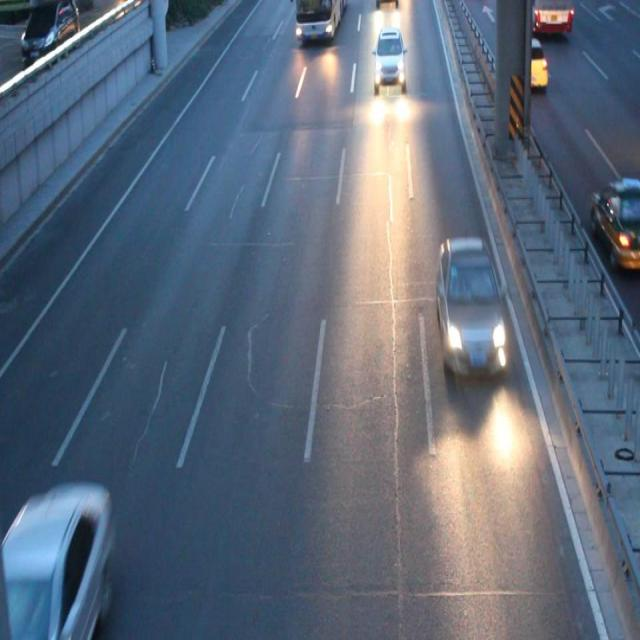car: (1, 488, 111, 640), (590, 174, 640, 268), (509, 38, 545, 86), (374, 31, 404, 82), (375, 1, 398, 8)
truck: (436, 239, 504, 374)
van: (507, 1, 570, 32), (295, 1, 346, 39)
